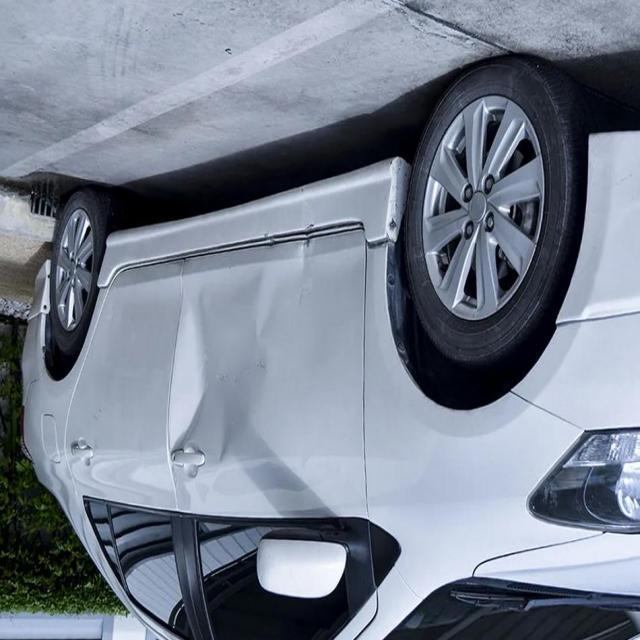dent: (139, 236, 303, 508)
